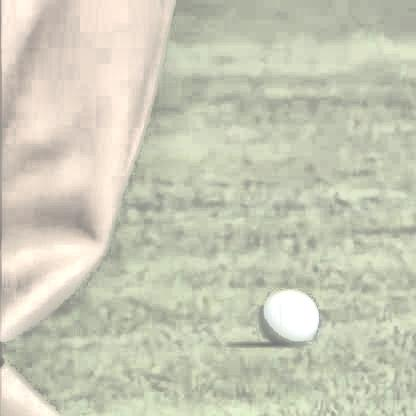golfball: (257, 288, 316, 344)
